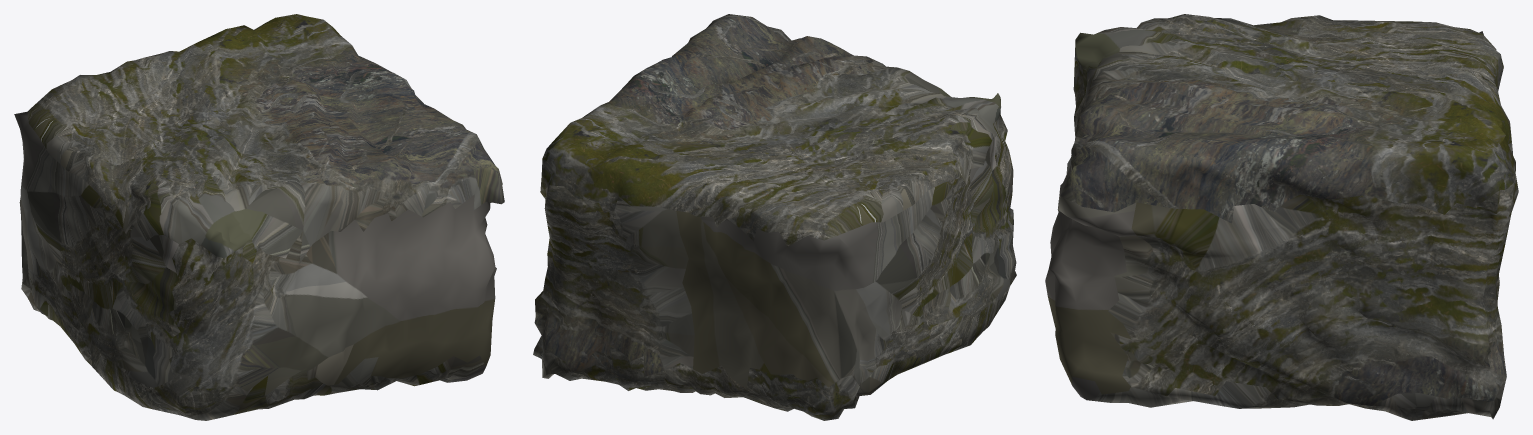
The model's file is SM_Boulder_B.fbx.
3 views of the same model, side by side, from view 1: azimuth 30°, elevation 25°; view 2: azimuth 150°, elevation 25°; view 3: azimuth 270°, elevation 25° (orthographic). The views are drawn at different scales.
Parts seen in each view (by area): view 1: SM_Boulder_B_LOD0; view 2: SM_Boulder_B_LOD0; view 3: SM_Boulder_B_LOD0.
Part boxes in pixels (<box>): SM_Boulder_B_LOD0: <box>14,14,504,420</box>; SM_Boulder_B_LOD0: <box>533,14,1016,420</box>; SM_Boulder_B_LOD0: <box>1045,14,1518,420</box>.
Size of the model in its own units: 3003 by 3265 by 2074.
